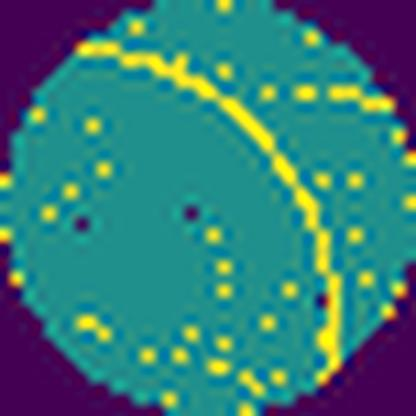Scratch: (74, 40, 340, 386)
